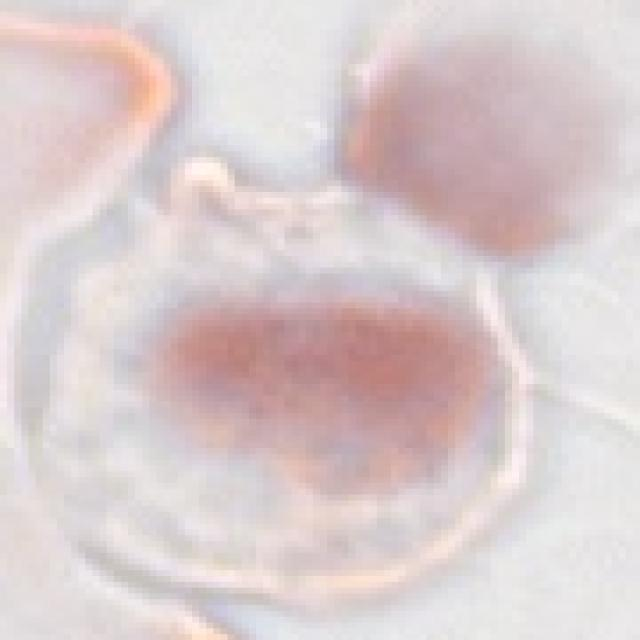cytoplasm: (1, 119, 582, 640)
nucleus: (152, 266, 502, 506)
